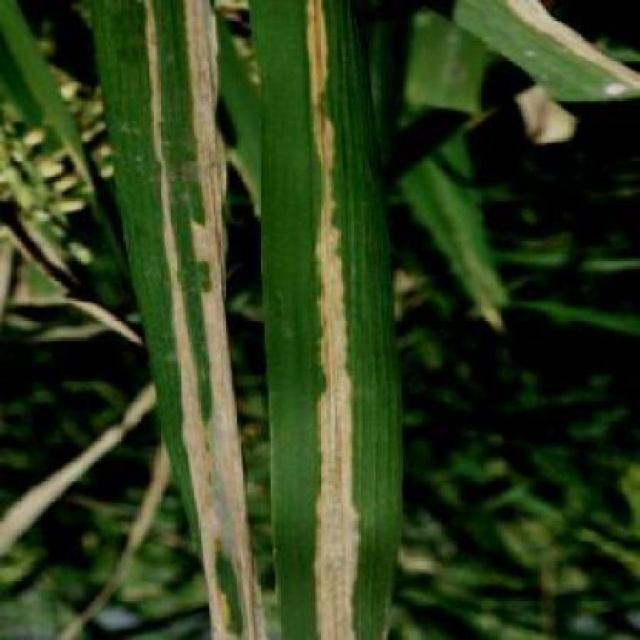Brown_Spot: (97, 0, 238, 637), (260, 0, 394, 637)
